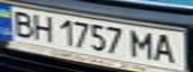1: (54, 17, 75, 46)
5: (87, 21, 109, 53)
7: (103, 25, 127, 56), (69, 19, 90, 49)
A: (151, 31, 181, 64)
B: (6, 8, 39, 38)
H: (27, 12, 57, 43)
M: (127, 28, 157, 61)
